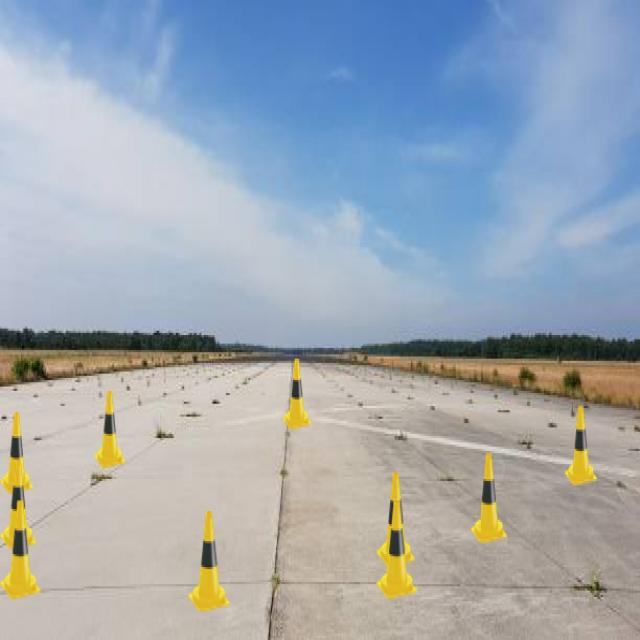yellow_cone: (188, 511, 230, 612), (0, 500, 41, 600), (377, 500, 418, 600), (377, 472, 415, 567), (0, 460, 37, 550), (471, 454, 507, 544), (0, 412, 33, 493), (565, 406, 597, 485), (94, 391, 126, 468), (282, 358, 312, 429)
